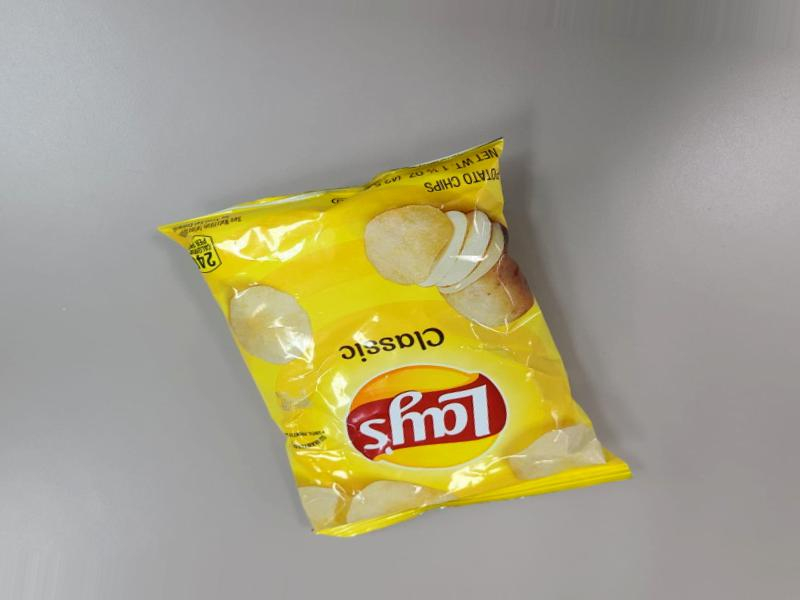lays: (237, 111, 651, 552)
